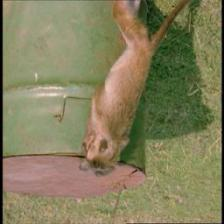monkey: (80, 132, 116, 194)
